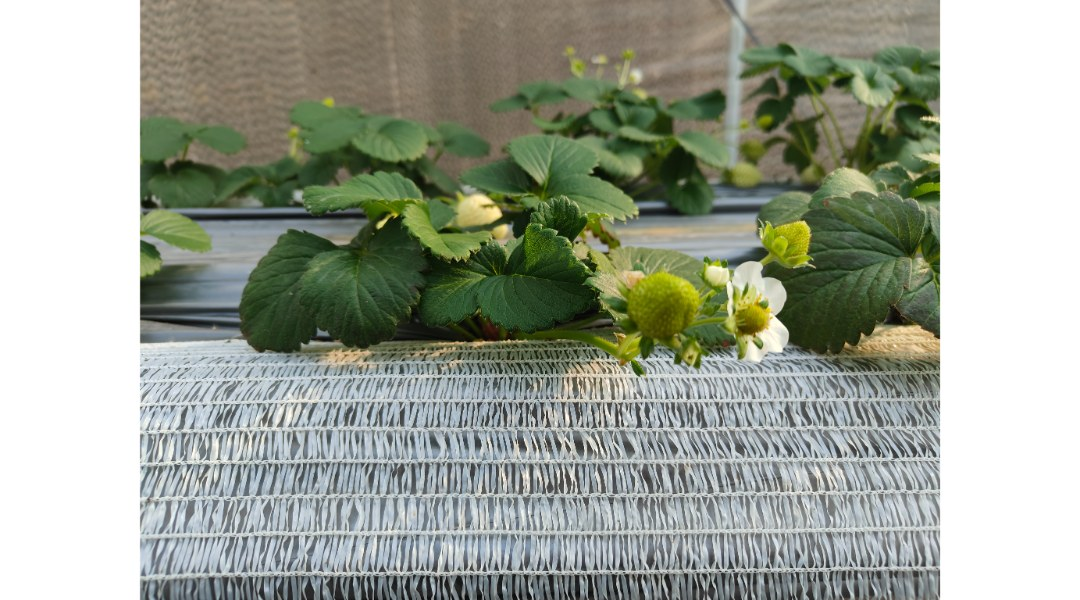berry: (623, 261, 694, 368), (755, 216, 829, 270)
flower: (722, 261, 796, 369)
